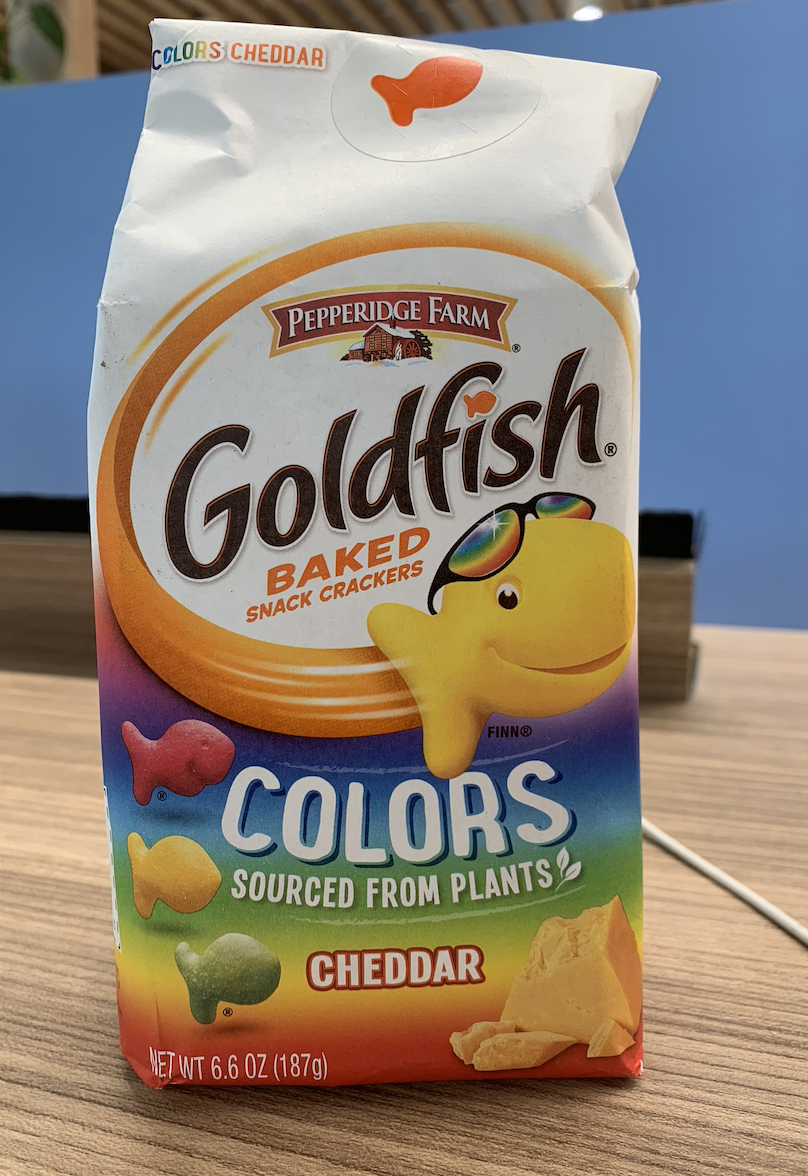crackers_100g-199g: (123, 212, 623, 1086)
